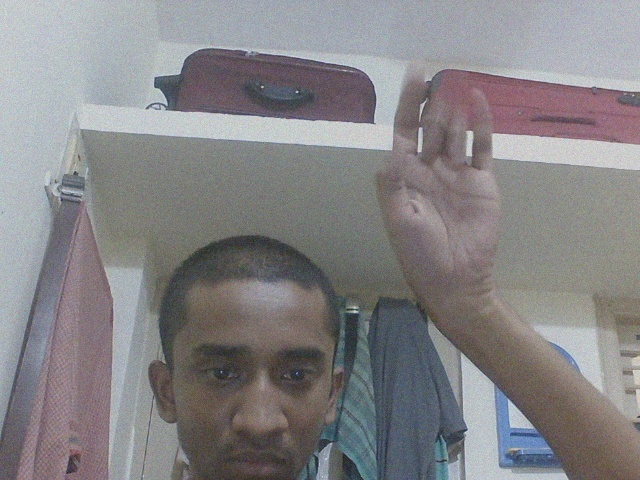hand: (377, 63, 507, 326)
